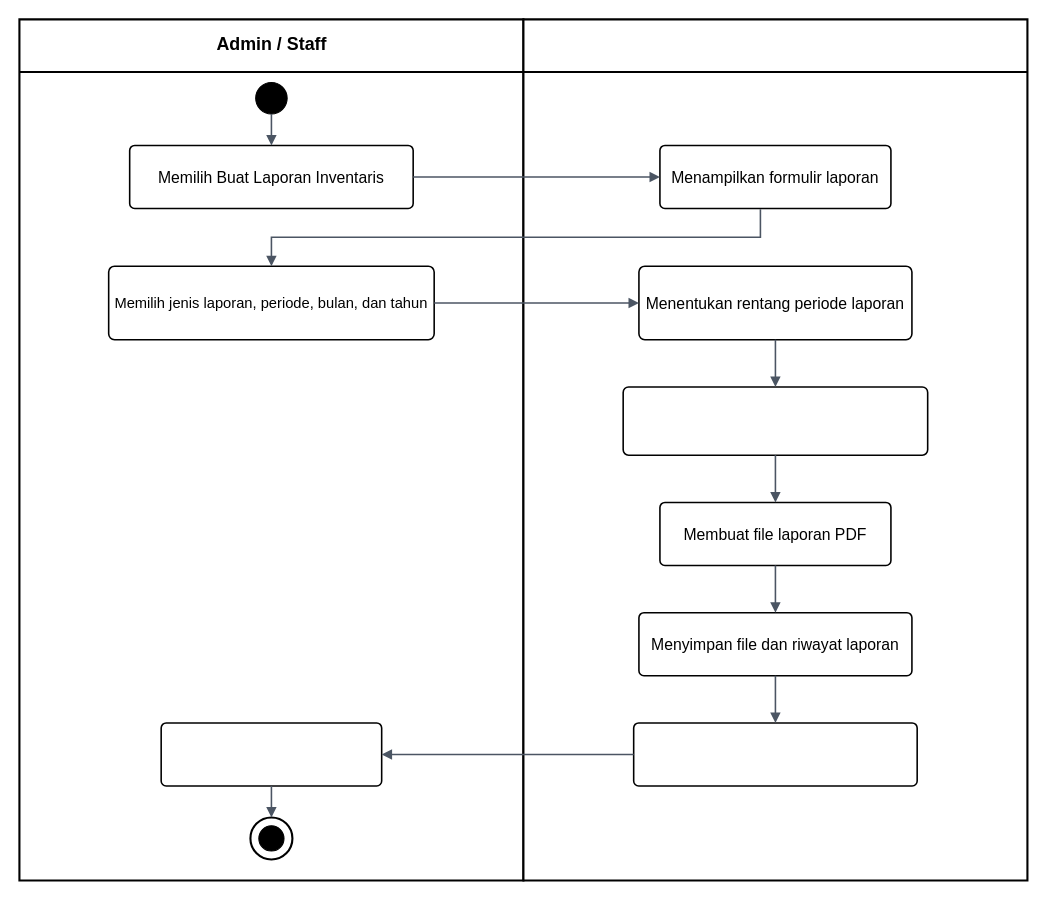
Some shapes in this 1046 by 899 pixel diagram are drawn without their labels. Here are the shapes that lost their labels. From the top down, the box of each, then its label:
(622, 386, 928, 455): Mengambil data sesuai jenis dan periode laporan
(522, 18, 1028, 881): Sistem
(160, 722, 382, 786): Mengunduh laporan PDF
(632, 722, 917, 786): Menampilkan laporan yang siap diunduh
